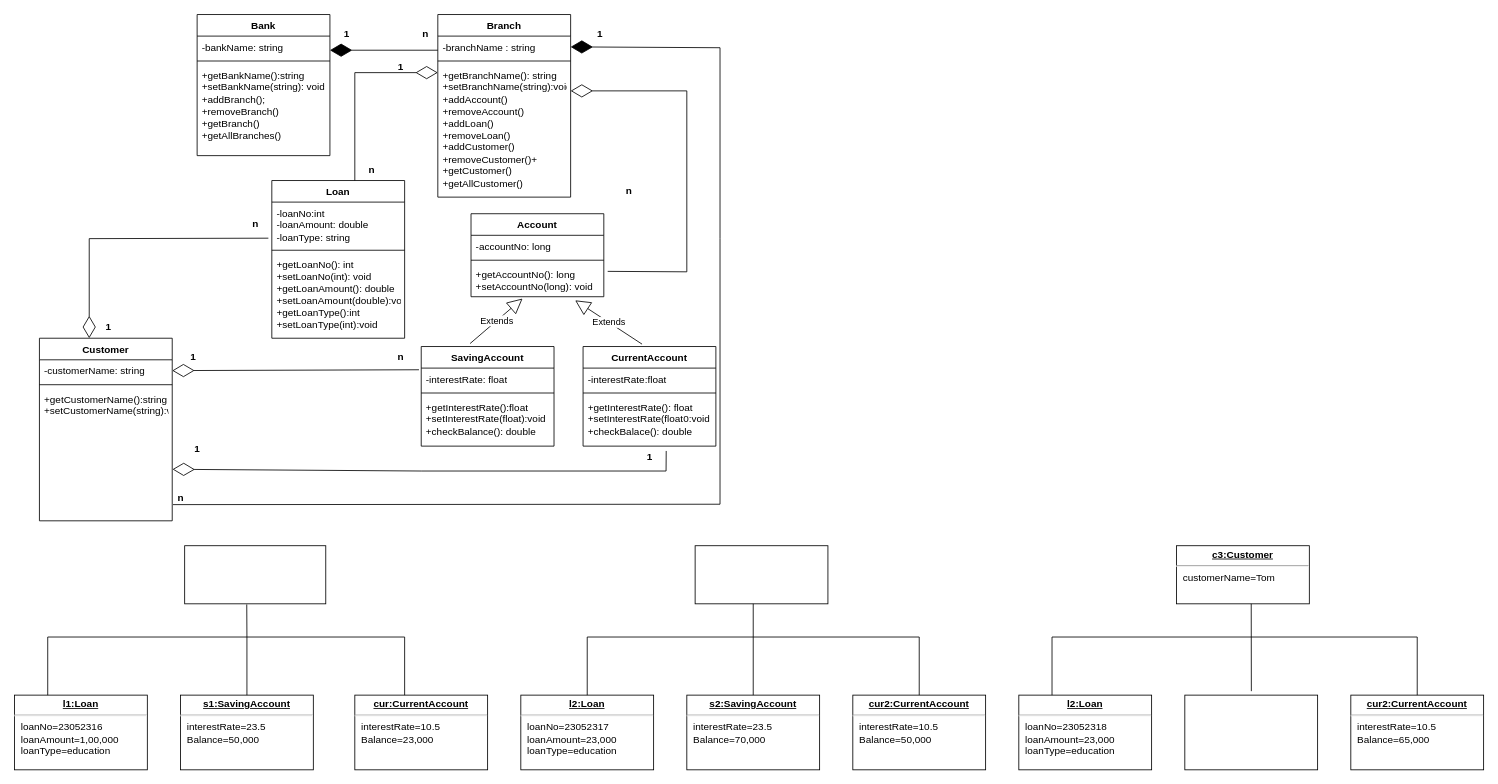
The diagram is 1498 pixels wide and 784 high, and some of its shapes have lost their labels. Each missing label, with the centre of its shape:
c1:Customer customerName = Dharshu: (x=255, y=574)
c2:Customer customerName=Alagar: (x=761, y=574)
s2:SavingAccount interestRate=23.5 Balance=80,000: (x=1251, y=732)
